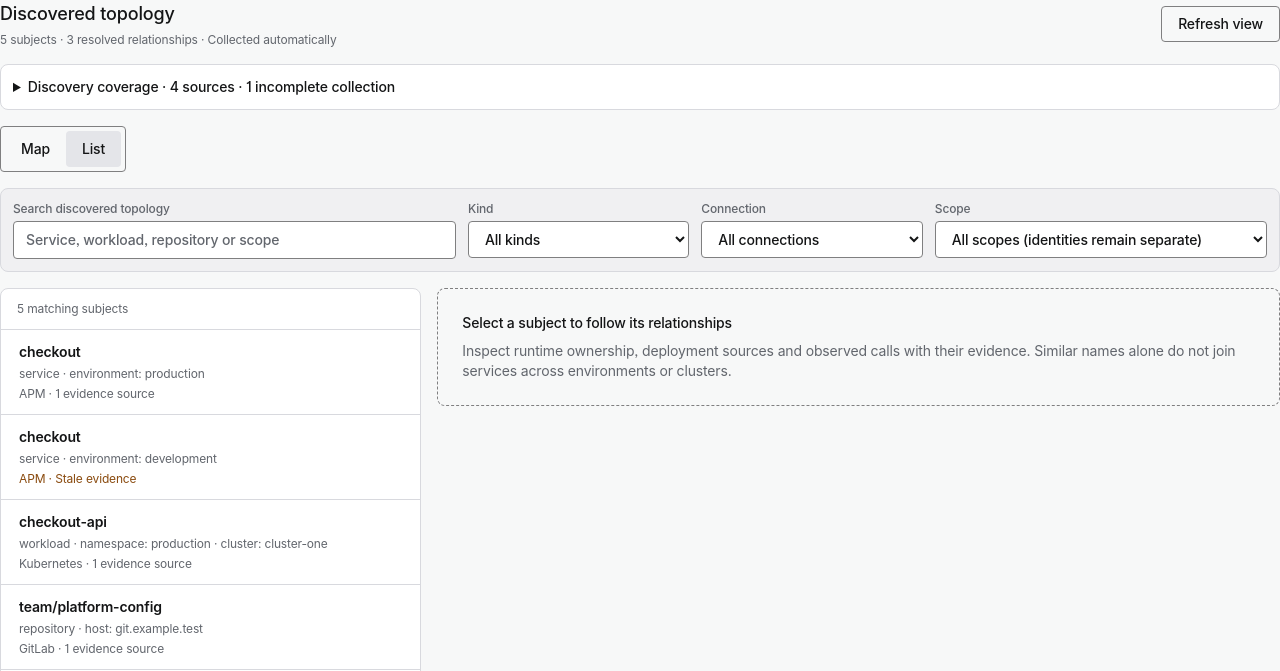
Test: explores identities without a catalog and never conflates equal names across environments
Click the button "checkout service · environment: production". click: click(50, 352)
box: [1, 330, 420, 414]
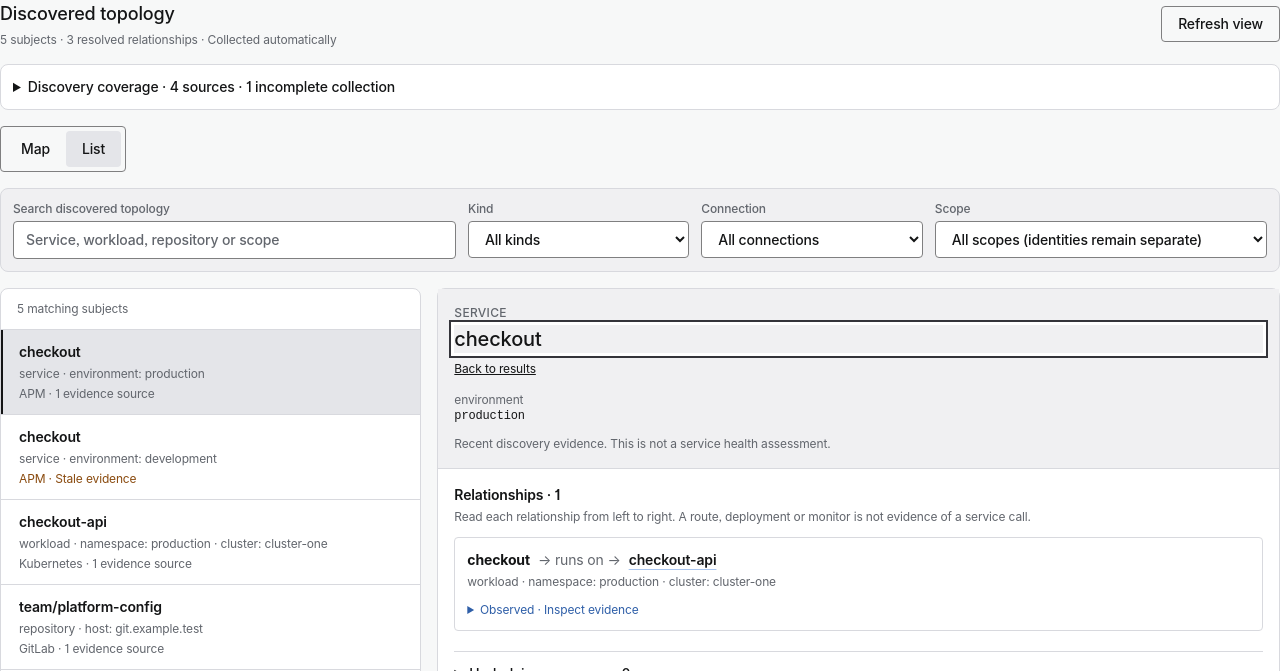
Check: the text "production" is shown, box [454, 408, 525, 424]
Check: the button "checkout-api" is shown, box [629, 550, 716, 570]
Click the button "checkout service · environment: development". click: click(211, 457)
box: [1, 415, 420, 499]
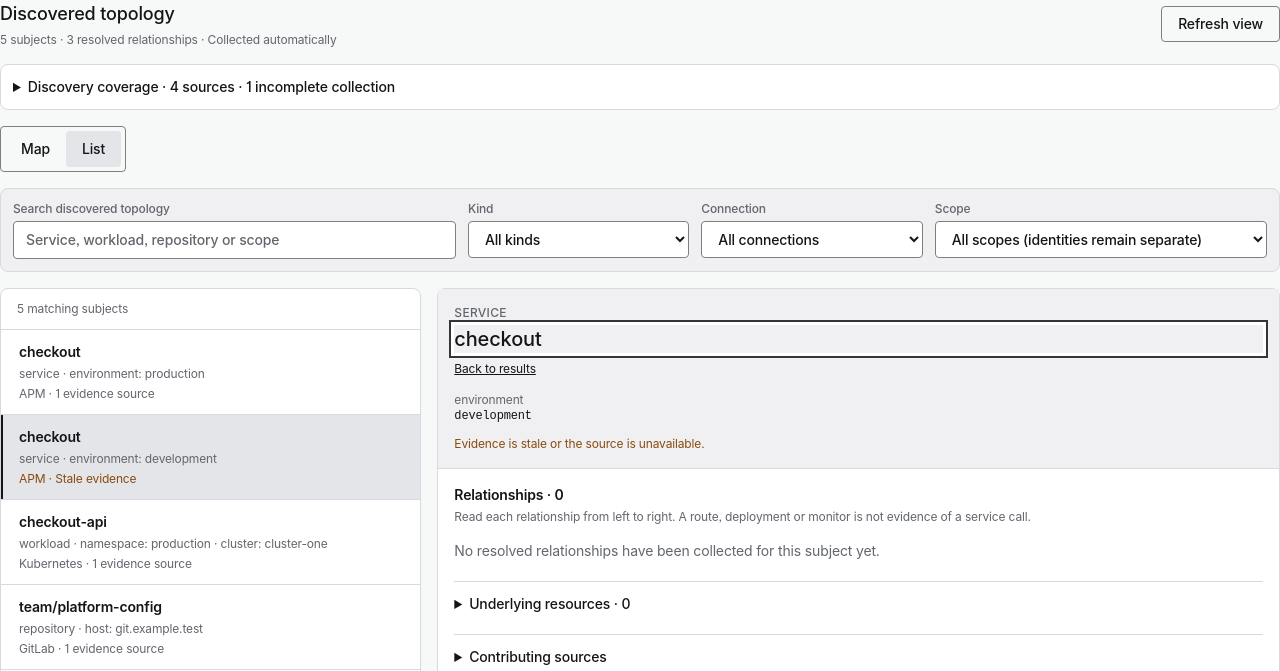
Check: the text "Evidence is stale or the source is unavailable." is shown, box [454, 436, 704, 450]
Check: the text "No resolved relationships" is shown, box [454, 542, 880, 558]
